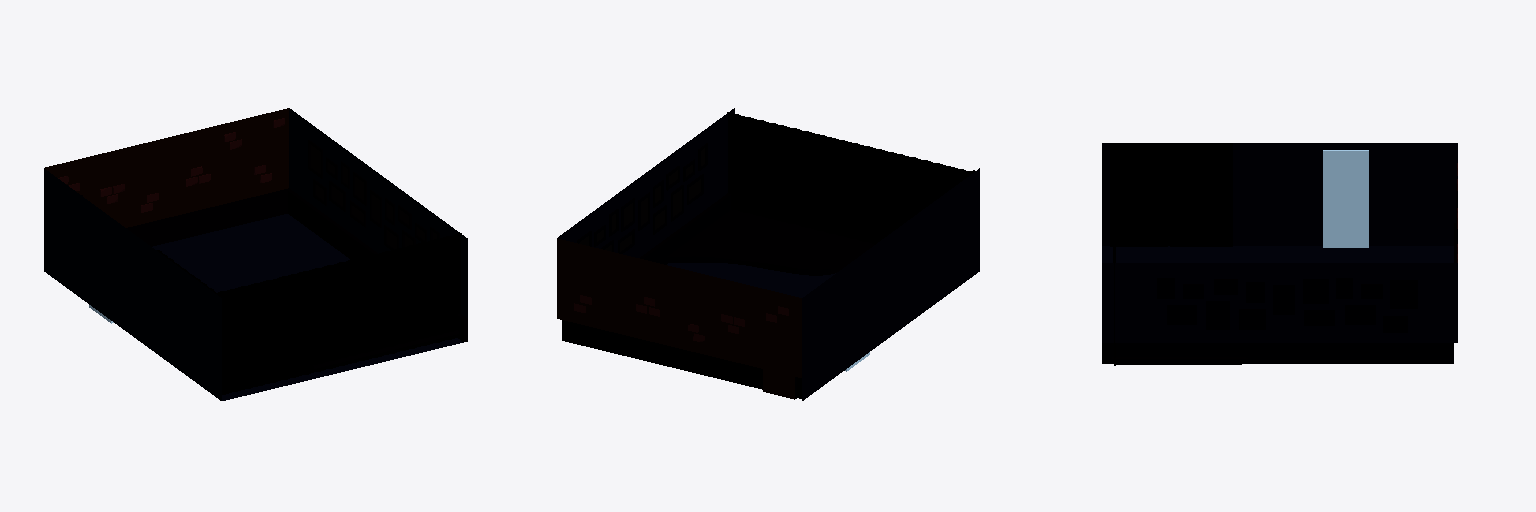
The model's file is Entire_Room.obj.
3 renders of one model, left to right at view 1: azimuth 30°, elevation 25°; view 2: azimuth 150°, elevation 25°; view 3: azimuth 270°, elevation 25°, orthographic.
Parts seen in each view (by area): view 1: Curtain.002_Vert.001; view 2: Curtain.002_Vert.001; view 3: Curtain.002_Vert.001.
Boxes of the visible parts, x1,y1,x2,y2 form: Curtain.002_Vert.001: [44, 108, 467, 400]; Curtain.002_Vert.001: [557, 108, 979, 400]; Curtain.002_Vert.001: [1102, 143, 1457, 365].
Size of the model in its own units: 1019 by 421 by 1276.